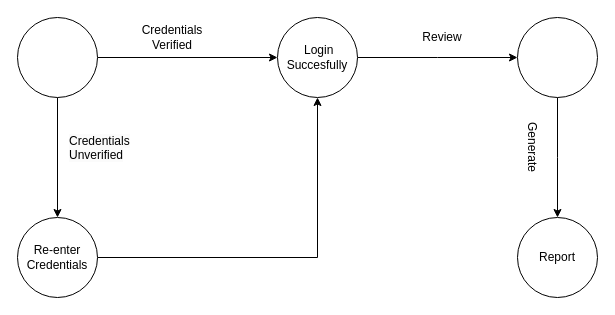
Some shapes in this 615 by 315 pixel diagram are drawn without their labels. The box of each missing label's shape, as (x1, y1, x2, y2) in pixels:
Add, View Remove, Update: (516, 16, 598, 98)
Admin Login: (16, 16, 98, 98)
